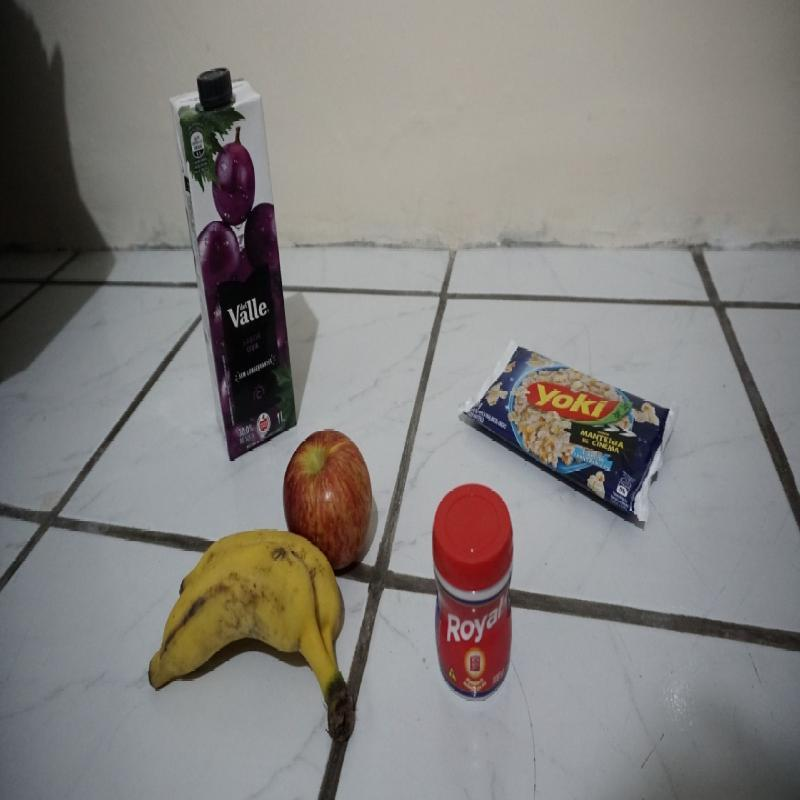Yeast: (432, 482, 514, 698)
